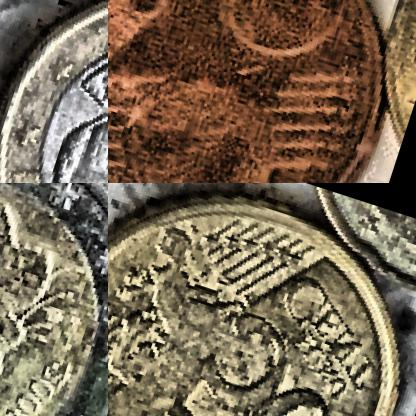coin: (108, 183, 415, 415), (108, 0, 415, 182), (0, 183, 107, 415), (0, 0, 107, 182)
